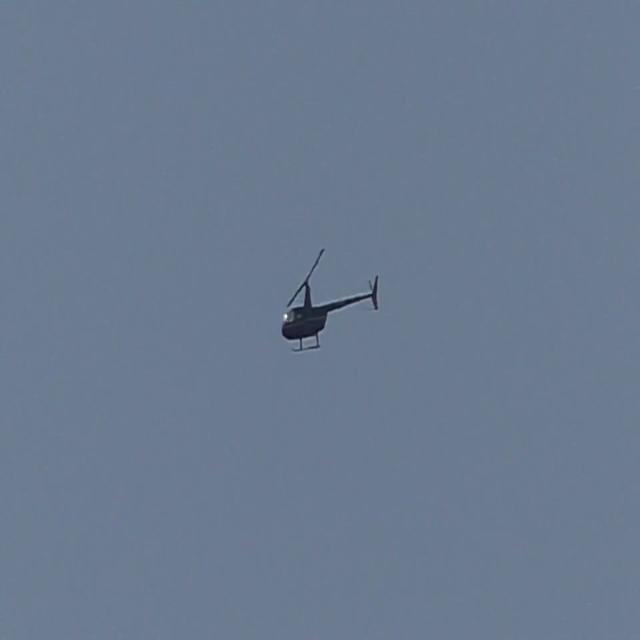CIV_HELO: (279, 273, 379, 353)
